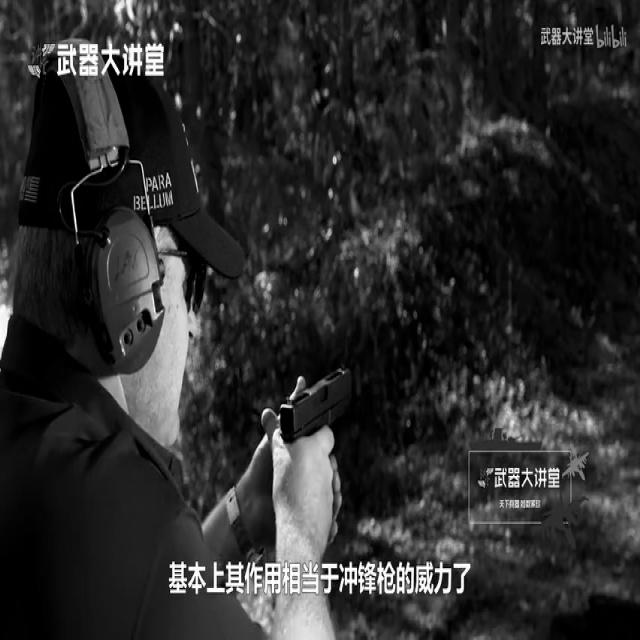Hand-Gun: (246, 315, 406, 553)
